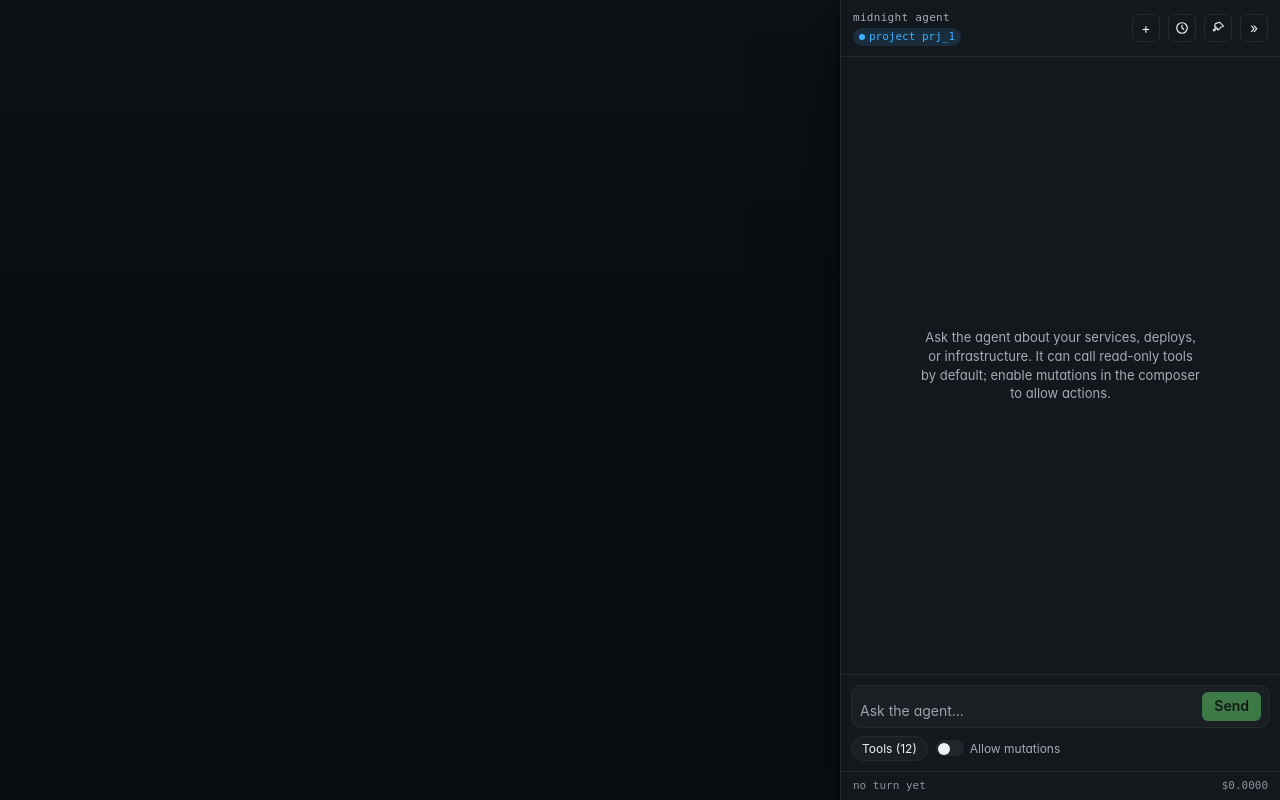
Test: AgentDock conversation submission › shows a denied stream handshake and preserves the unsent draft
Type "Keep this draft" into the text box with test id "agent-composer-input". click: (1028, 711)
box: 860,701 -> 1196,721
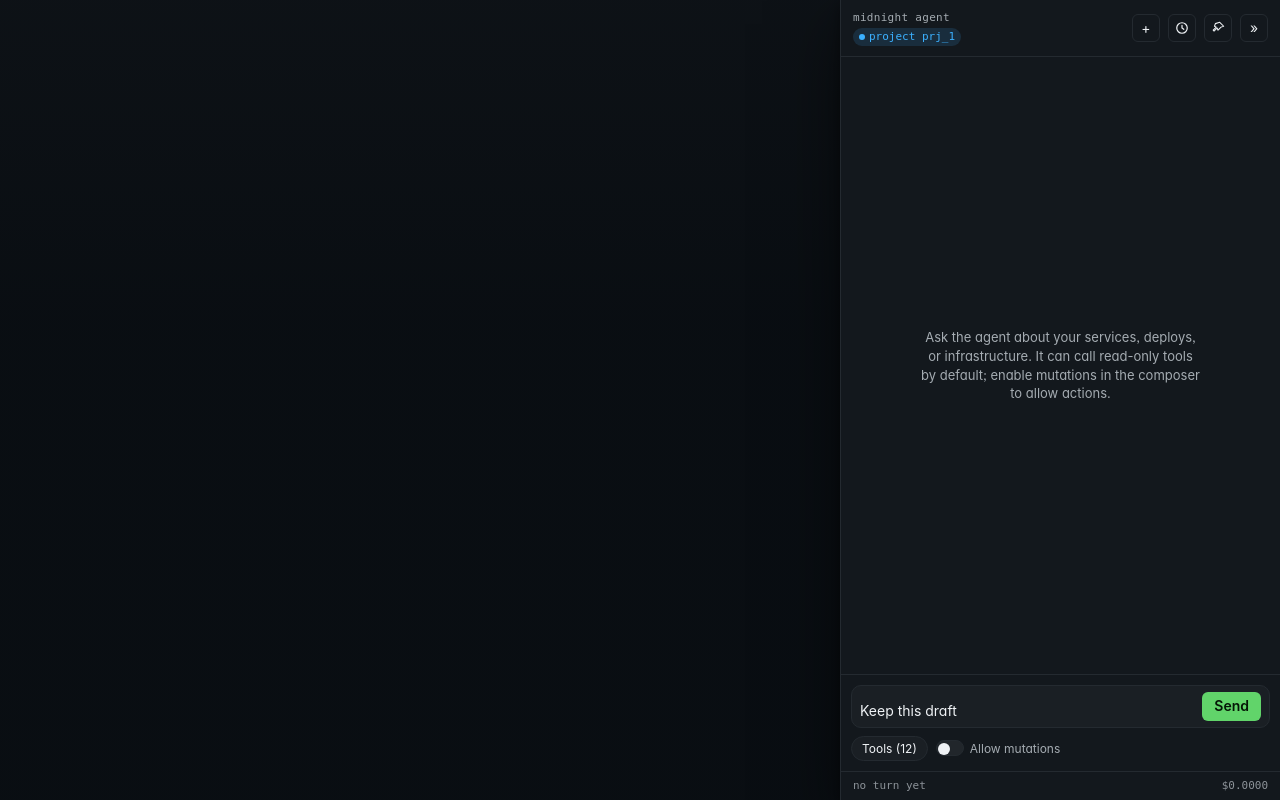
Click the button with test id "agent-composer-send". click: (1232, 707)
box: 1202,692 -> 1261,721
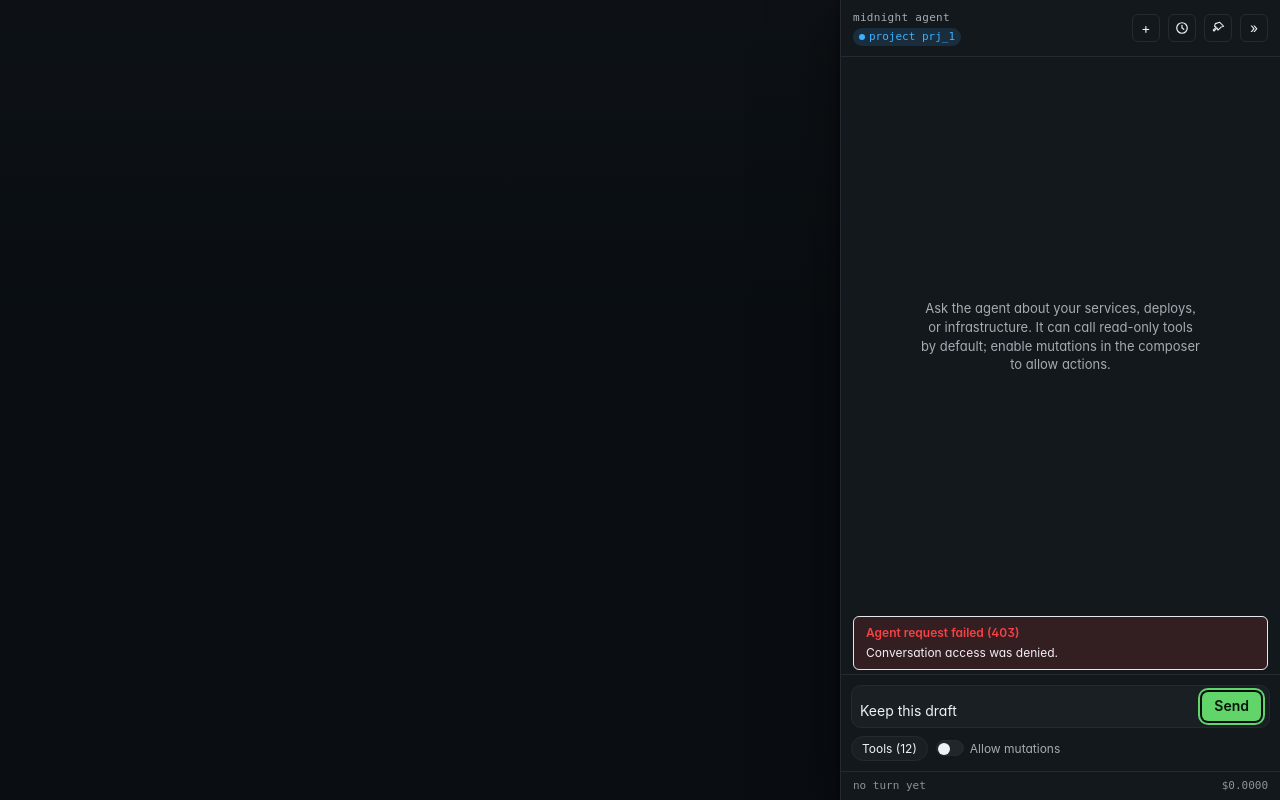
Now the message with test id "agent-send-error" shows "Conversation access was denied", box 866,645 -> 1058,660
